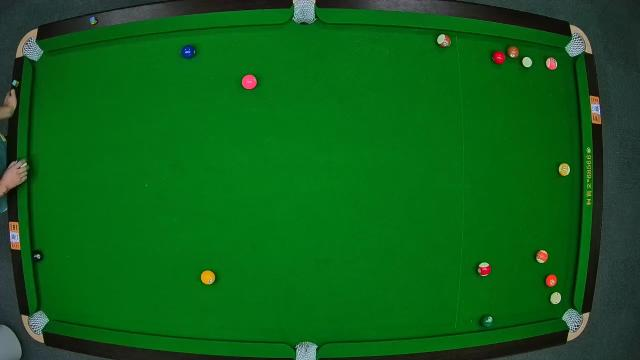bag1: (20, 40, 40, 61)
bag2: (292, 1, 316, 25)
bag3: (566, 35, 588, 55)
bag4: (28, 311, 48, 333)
bag5: (293, 340, 319, 360)
bag6: (562, 308, 582, 332)
ball0: (550, 293, 564, 305)
ball1: (200, 269, 216, 285)
ball11: (476, 262, 490, 276)
ball12: (544, 55, 558, 70)
ball13: (536, 250, 550, 266)
ball14: (519, 56, 533, 70)
ball15: (436, 32, 452, 48)
ball2: (180, 44, 196, 60)
ball3: (492, 51, 506, 65)
ball4: (242, 74, 258, 90)
ball5: (544, 274, 556, 288)
ball6: (479, 313, 497, 329)
ball7: (508, 45, 520, 59)
ball8: (30, 248, 46, 264)
ball9: (557, 162, 571, 178)
